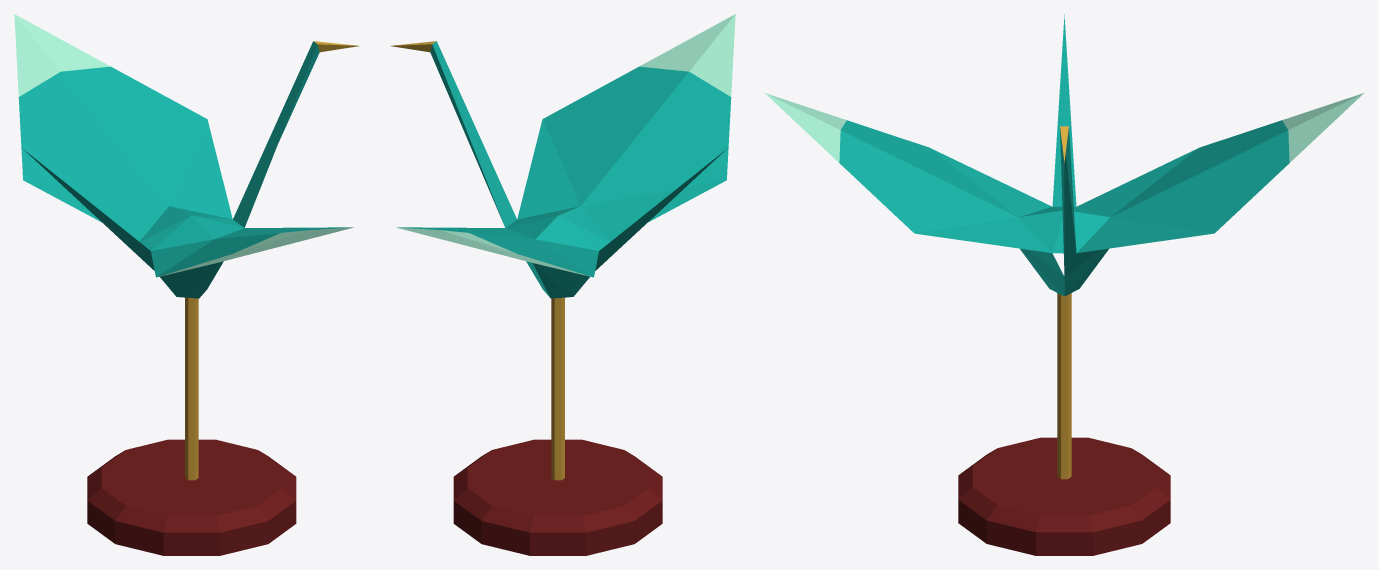
Rendered from origami-crane.glb.
The picture shows the model from 3 angles, left to right: view 1: azimuth 30°, elevation 25°; view 2: azimuth 150°, elevation 25°; view 3: azimuth 270°, elevation 25°; orthographic projection.
Visible parts, largest first — view 1: Body, Base, WingTips, Rod; view 2: Body, Base, WingTips, Rod; view 3: Body, Base, WingTips, Rod.
Boxes of the visible parts, left/top/right/bottom form: Body: left=18, top=41, right=351, bottom=298; Base: left=87, top=439, right=296, bottom=555; WingTips: left=14, top=14, right=353, bottom=277; Rod: left=185, top=297, right=198, bottom=480; Body: left=398, top=41, right=731, bottom=298; Base: left=453, top=439, right=662, bottom=555; WingTips: left=396, top=14, right=735, bottom=277; Rod: left=551, top=297, right=564, bottom=480; Body: left=839, top=14, right=1289, bottom=296; Base: left=958, top=437, right=1170, bottom=555; WingTips: left=765, top=93, right=1363, bottom=162; Rod: left=1057, top=293, right=1071, bottom=479.
Bounding box in the file's own units: 3.98 × 4.92 × 6.
